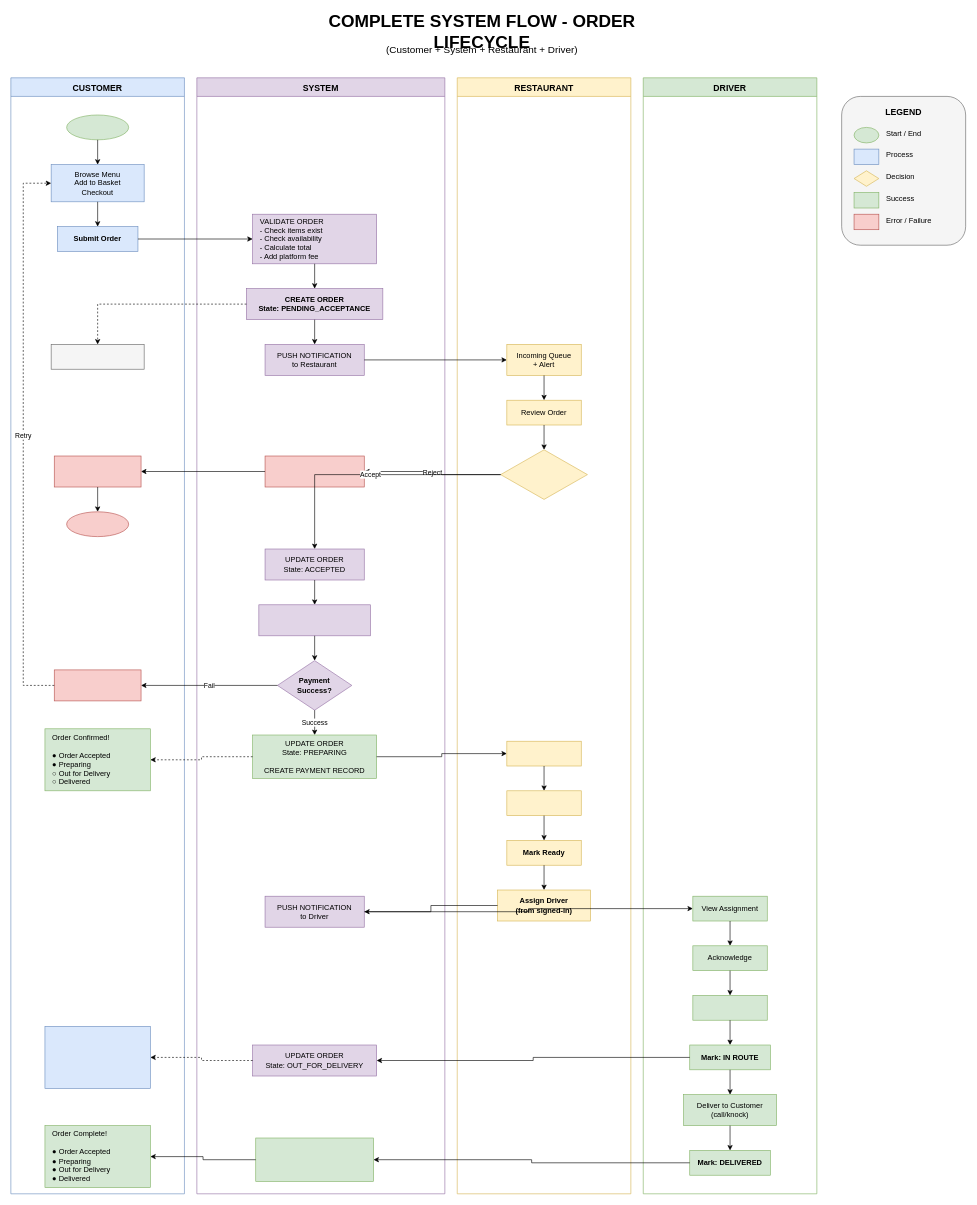
This 977x1205 diagram has some shape labels left out. Each missing label, with the box of its shape:
Accept or Reject?: (500, 449, 587, 499)
END: (66, 511, 129, 537)
Order could not be fulfilled: (54, 455, 141, 487)
Payment failed, please retry: (54, 669, 141, 701)
Pick Up Food: (692, 995, 767, 1020)
Preparation Queue: (506, 741, 581, 766)
Prepare Food: (506, 790, 581, 816)
PROCESS PAYMENT (via Payment Provider): (258, 604, 370, 636)
Progress Update: ● Order Accepted ● Preparing ● Out for Delivery ○ Delivered: (44, 1026, 150, 1088)
START: (66, 114, 129, 140)
UPDATE ORDER State: COMPLETED Record in history: (255, 1137, 374, 1181)
UPDATE ORDER State: REJECTED: (264, 455, 364, 487)
Waiting for restaurant...: (51, 344, 144, 369)
